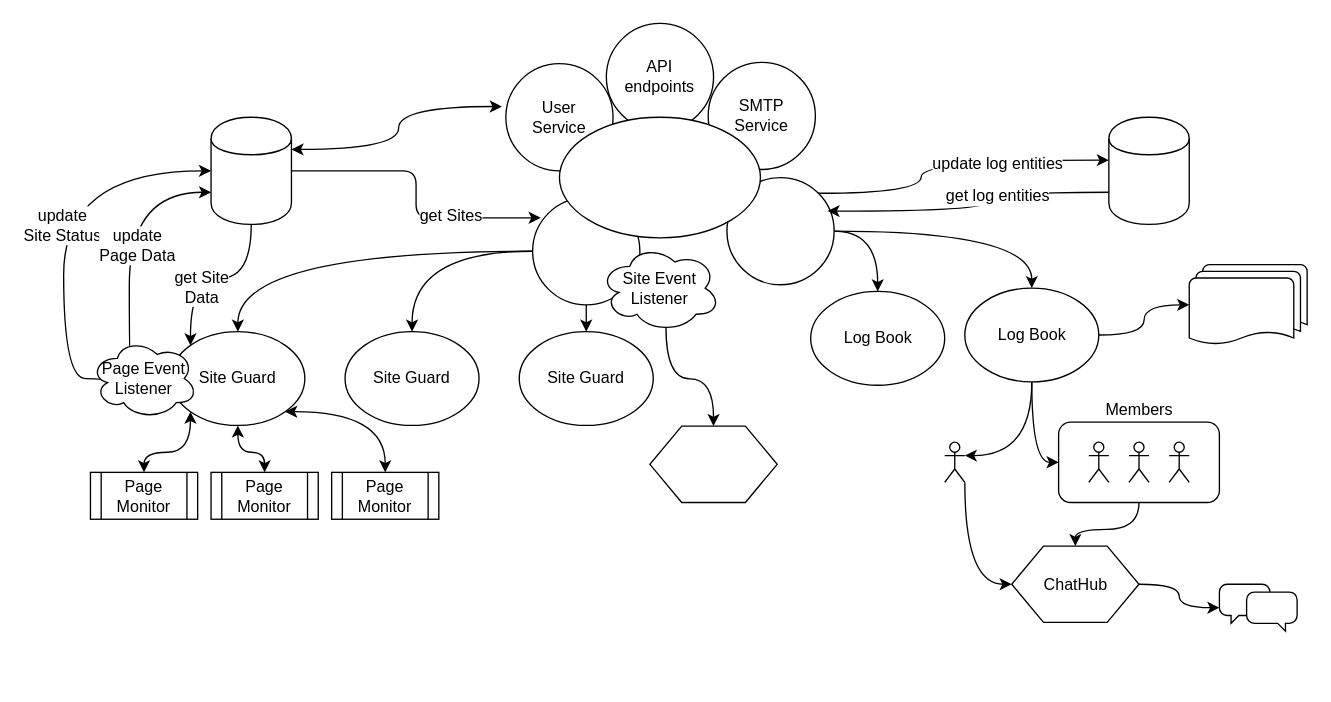
Image size: 1331x702. Some labels were removed from this diagram. The shapes that lost their labels are listed below. From the top down, each one's centre as x and y in pixels, then its label:
the point at 659,177: Overseer
the point at 585,250: Guard Service
the point at 780,230: Log Service
the point at 1247,304: Log Entries
the point at 713,464: GuardHub
the point at 954,461: Owner
the point at 1257,607: Log Book Chat Room
